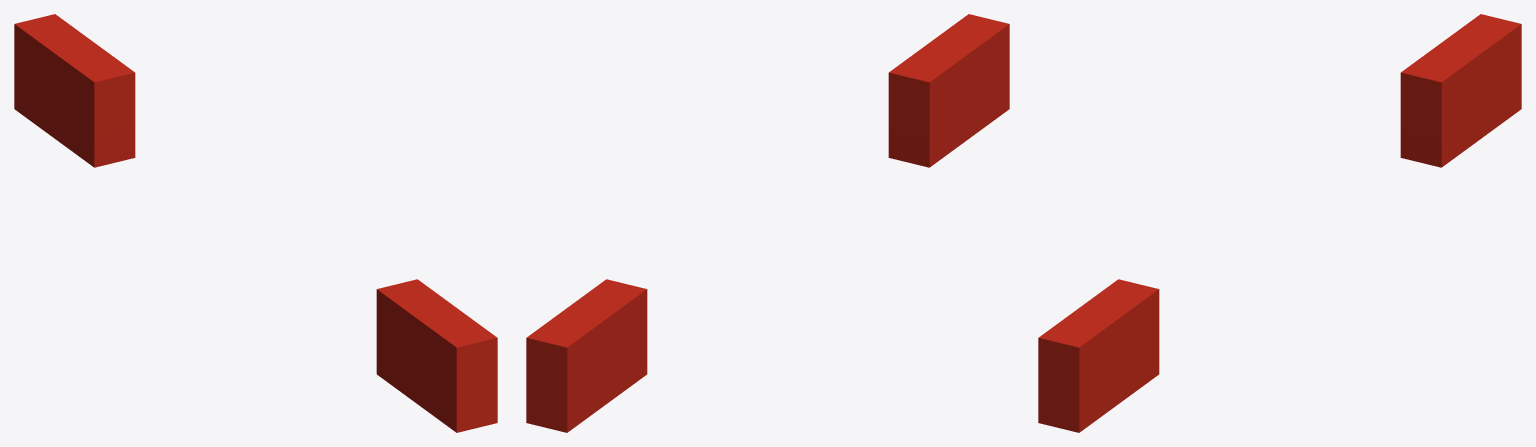
The model's file is RearLights.glb.
The picture shows the model from 3 angles, left to right: view 1: azimuth 30°, elevation 25°; view 2: azimuth 150°, elevation 25°; view 3: azimuth 330°, elevation 25°; orthographic projection.
Parts seen in each view (by area): view 1: Cube.041; view 2: Cube.041; view 3: Cube.041.
Part boxes in pixels (x1=…): Cube.041: x1=14, y1=14, x2=497, y2=432; Cube.041: x1=526, y1=14, x2=1009, y2=432; Cube.041: x1=1038, y1=14, x2=1521, y2=432.
Bounding box in the file's own units: 0.00323 × 0.00645 × 0.0606.
Materials: 1 (1 with a texture image).
